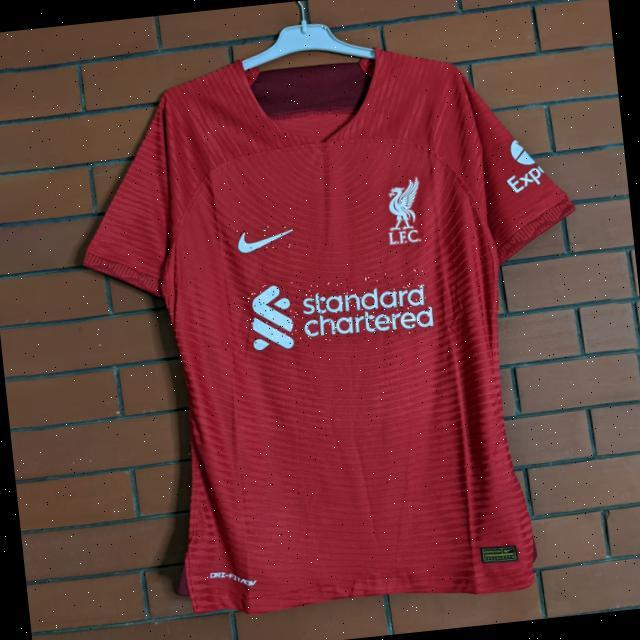Nike: (235, 224, 295, 253)
Standard Chartered: (246, 268, 432, 352)
